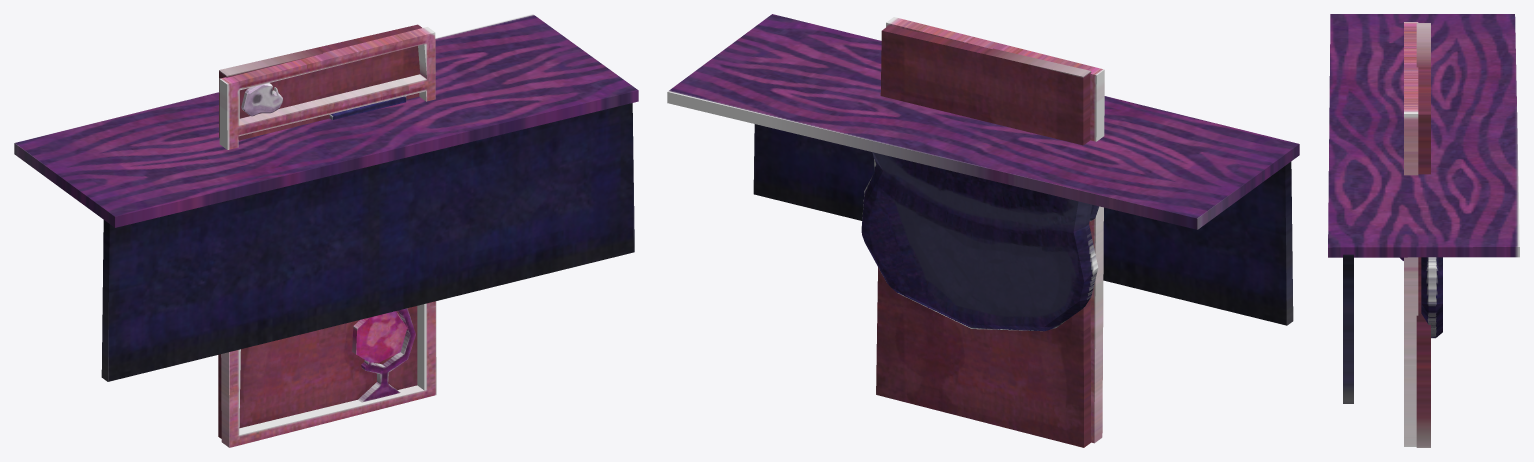
Rendered from masher 1.fbx.
The picture shows the model from 3 angles, left to right: view 1: azimuth 30°, elevation 25°; view 2: azimuth 150°, elevation 25°; view 3: azimuth 270°, elevation 25°; orthographic projection. The views are drawn at different scales.
Parts seen in each view (by area): view 1: tablebottom, tabletop, bokhylla, bokhyllafram, globe, skull; view 2: tabletop, bokhylla, couldron, tablebottom, bokhyllafram; view 3: tabletop, bokhyllafram, bokhylla, tablebottom, couldron.
Boxes of the visible parts, bbox=[...] form: tablebottom: bbox=[101, 103, 634, 381]; tabletop: bbox=[14, 14, 638, 227]; bokhylla: bbox=[218, 24, 421, 438]; bokhyllafram: bbox=[219, 27, 436, 447]; globe: bbox=[352, 308, 415, 402]; skull: bbox=[241, 83, 282, 116]; tabletop: bbox=[667, 14, 1299, 229]; bokhylla: bbox=[876, 25, 1091, 447]; couldron: bbox=[861, 152, 1098, 331]; tablebottom: bbox=[753, 124, 1293, 325]; bokhyllafram: bbox=[886, 17, 1104, 443]; tabletop: bbox=[1328, 14, 1519, 257]; bokhyllafram: bbox=[1404, 22, 1418, 446]; bokhylla: bbox=[1416, 23, 1430, 447]; tablebottom: bbox=[1343, 254, 1353, 403]; couldron: bbox=[1421, 257, 1442, 338].
Size of the model in its own units: 385 by 256 by 132.
